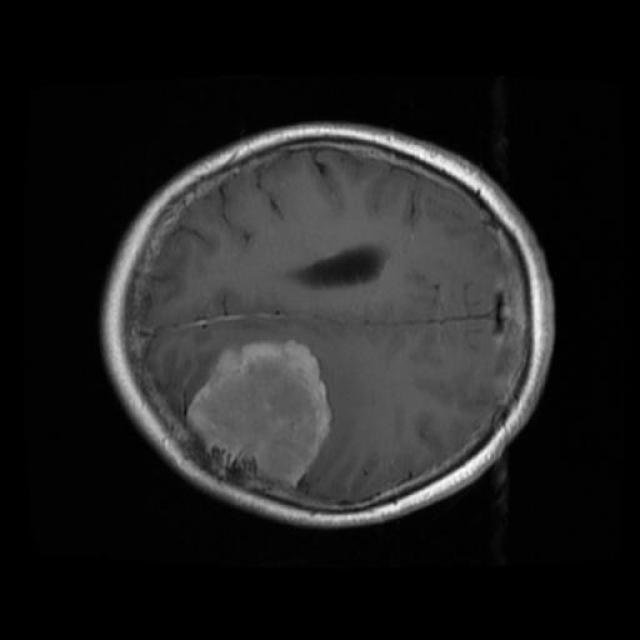Meningioma: (187, 340, 331, 488)
